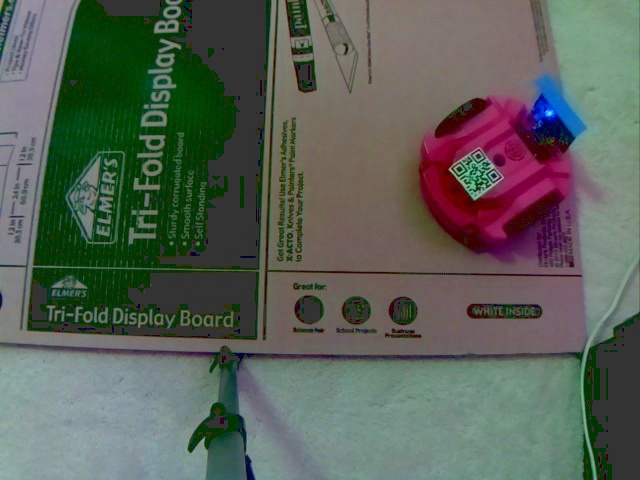board: (522, 76, 585, 156)
chassis: (416, 71, 590, 250)
